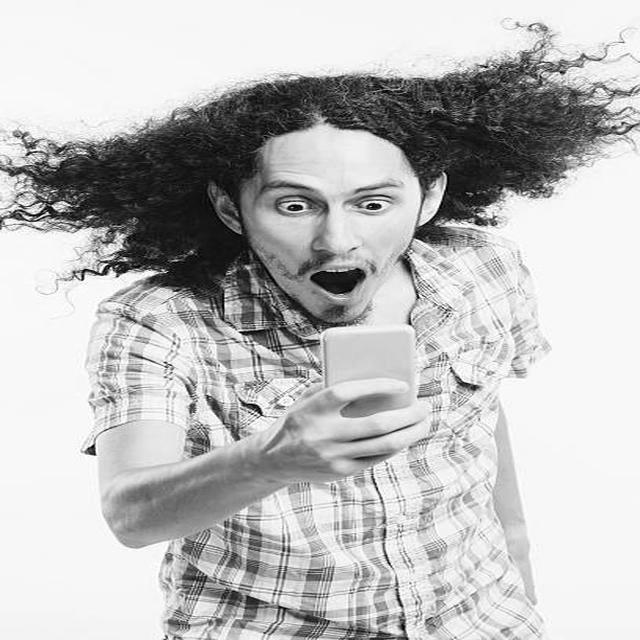Surprised: (241, 128, 421, 323)
